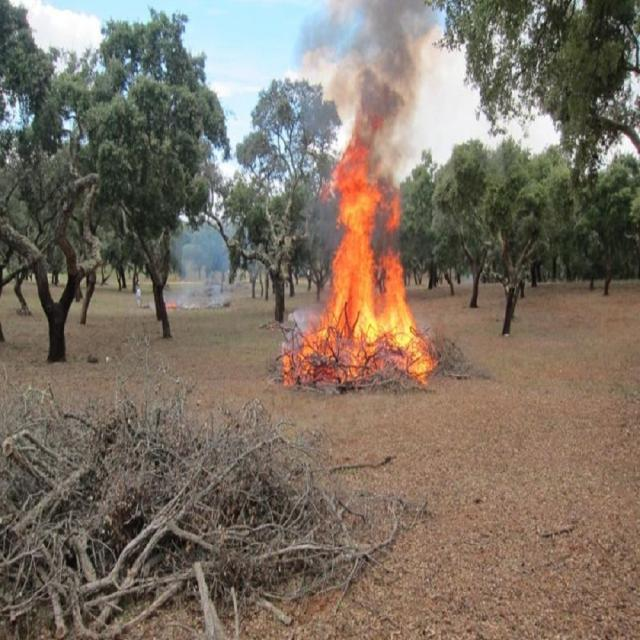Fire: (332, 164, 424, 386)
Smoke: (309, 1, 436, 132)
